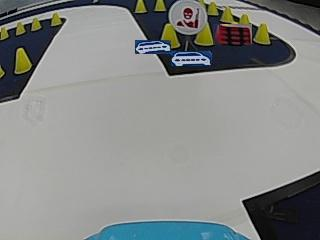evil: (168, 1, 206, 34)
